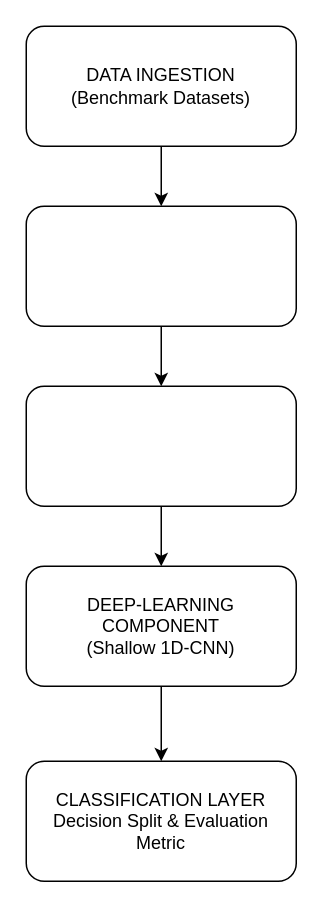
Some shapes in this 323 by 908 pixel diagram are drawn without their labels. The shapes that lost their labels are listed below. From the top down, each one's centre as x and y in pixels, then its label:
At (160,265): "DATA PRE-PROCESSING LAYER (Data Cleaning)".
At (160,445): "LIGHTWEIGHT FEATURE-SELECTION STAGE (LightGBM)".
